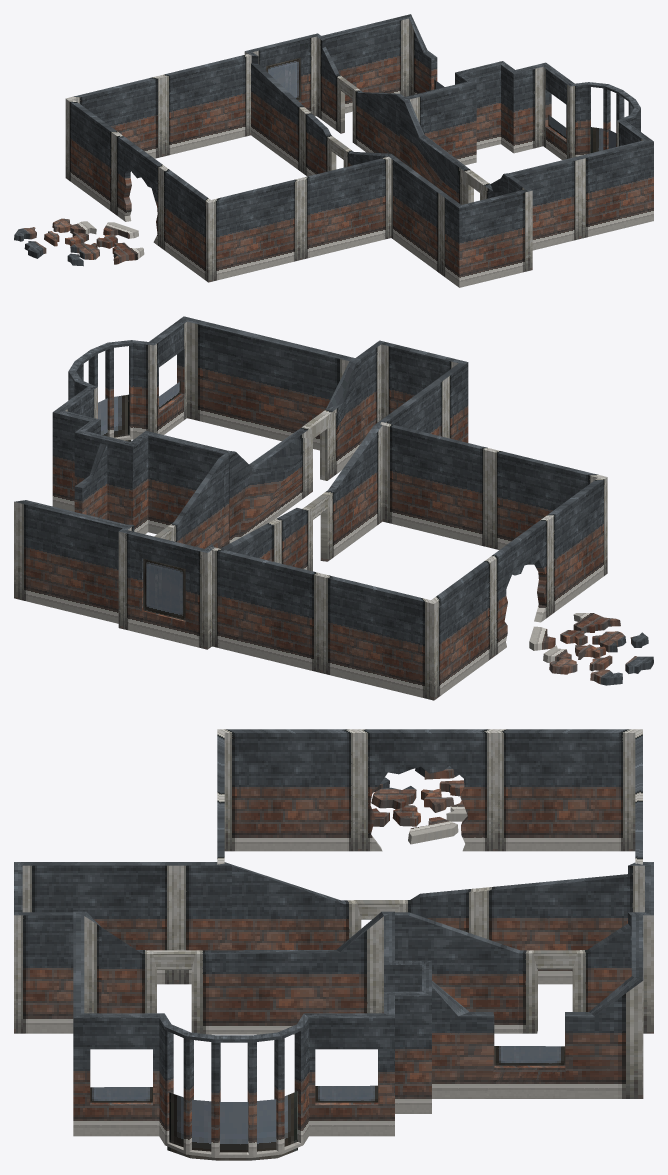
File: map.glb
The picture shows the model from 3 angles, top to bottom: view 1: azimuth 30°, elevation 25°; view 2: azimuth 150°, elevation 25°; view 3: azimuth 270°, elevation 25°; orthographic projection. The views are drawn at different scales.
Visible parts, largest first — view 1: Plane.009, Plane, Plane.003, Plane.002, Plane.019, Plane.001, Plane.007; view 2: Plane.009, Plane, Plane.003, Plane.002, Plane.019, Plane.001, Plane.007; view 3: Plane.003, Plane, Plane.009, Plane.002, Plane.007, Plane.019.
Part boxes in pixels (x1,y1,x2,y2): Plane.009: [65, 54, 391, 282]; Plane: [400, 61, 653, 250]; Plane.003: [244, 33, 532, 287]; Plane.002: [321, 14, 437, 113]; Plane.019: [14, 218, 144, 266]; Plane.001: [266, 57, 300, 100]; Plane.007: [434, 79, 616, 153]; Plane.009: [208, 422, 607, 700]; Plane: [52, 316, 361, 543]; Plane.003: [118, 340, 468, 649]; Plane.002: [14, 443, 127, 623]; Plane.019: [529, 613, 653, 685]; Plane.001: [143, 558, 185, 620]; Plane.007: [98, 381, 180, 441]; Plane.003: [14, 862, 653, 1033]; Plane: [73, 911, 431, 1157]; Plane.009: [217, 729, 642, 864]; Plane.002: [432, 915, 643, 1098]; Plane.007: [90, 1046, 565, 1160]; Plane.019: [371, 766, 467, 844].
Bounding box in the file's own units: 7.99 × 1.19 × 5.56.
2 materials, 2 textured.
